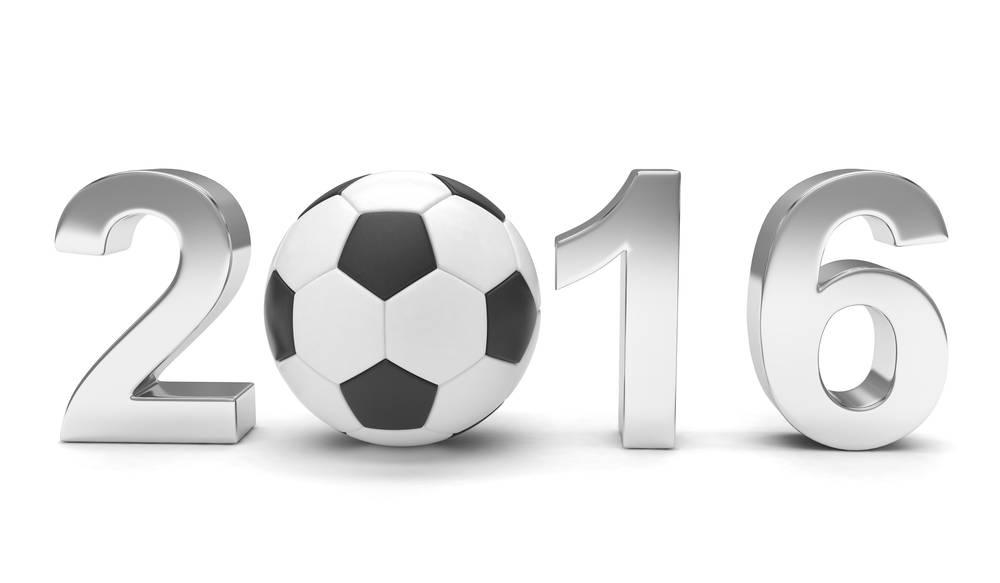football: (259, 158, 549, 465)
